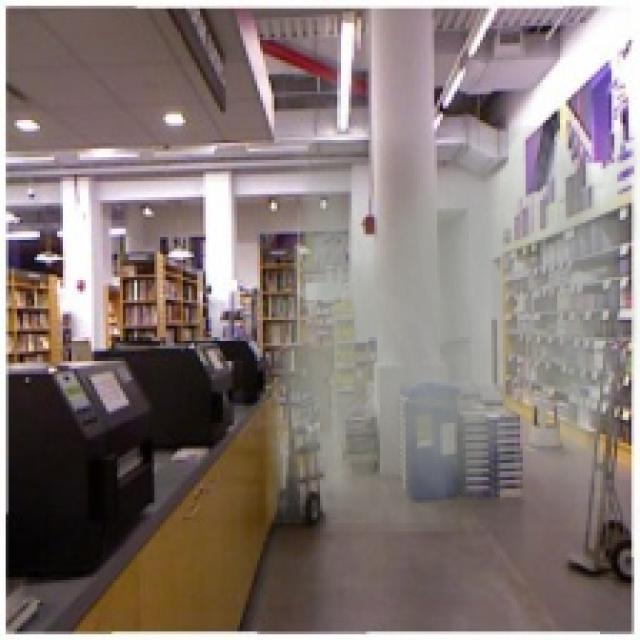smoke: (266, 126, 637, 534)
